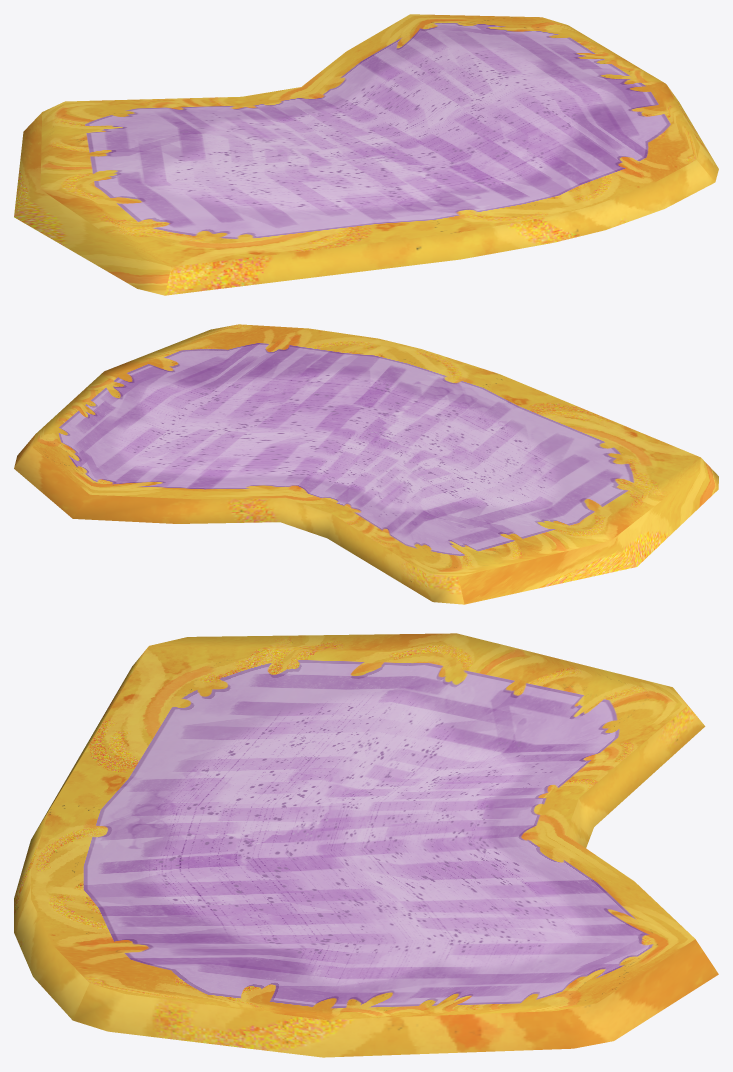
The model's file is mesh_path_01.fbx.
3 views of the same model, one above another, from view 1: azimuth 30°, elevation 25°; view 2: azimuth 150°, elevation 25°; view 3: azimuth 270°, elevation 25° (orthographic). The views are drawn at different scales.
Parts seen in each view (by area): view 1: mesh_path_01; view 2: mesh_path_01; view 3: mesh_path_01.
Part boxes in pixels (x1=…): mesh_path_01: x1=14, y1=14, x2=718, y2=295; mesh_path_01: x1=14, y1=324, x2=718, y2=604; mesh_path_01: x1=14, y1=633, x2=718, y2=1057.
Bounding box in the file's own units: 6.33 × 0.2079 × 4.57.
Materials: 1 (1 with a texture image).
